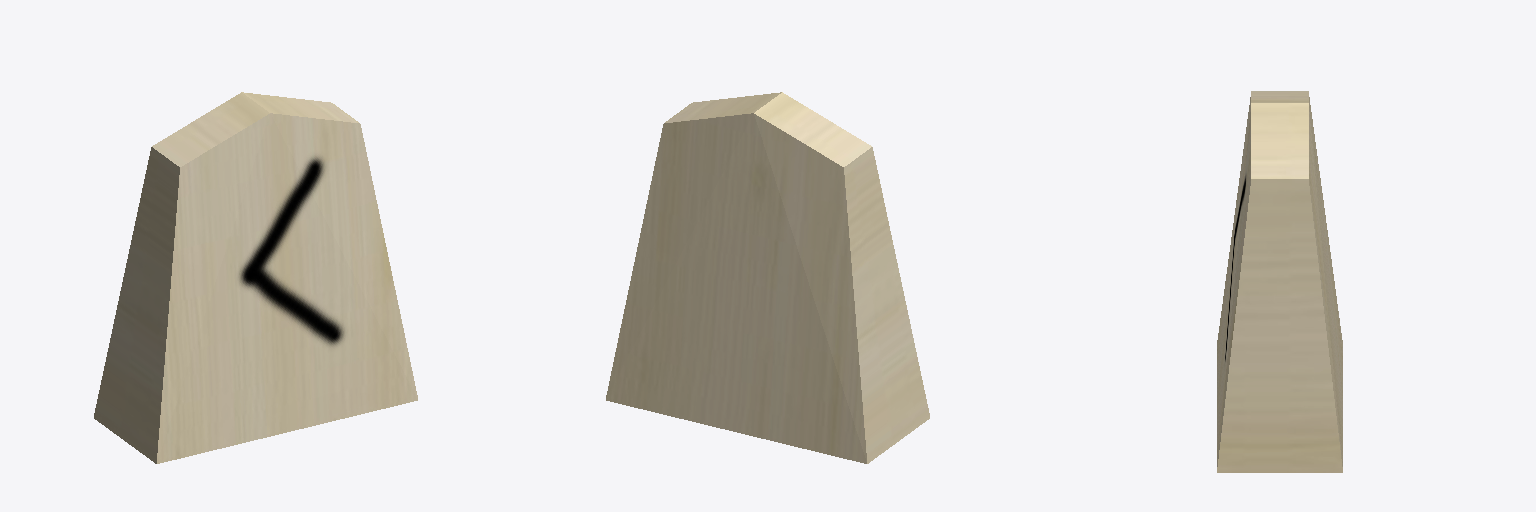
3 renders of one model, left to right at view 1: azimuth 30°, elevation 25°; view 2: azimuth 150°, elevation 25°; view 3: azimuth 270°, elevation 25°, orthographic.
Visible parts, largest first — view 1: Fciha; view 2: Fciha; view 3: Fciha.
Boxes of the visible parts, x1=… form: Fciha: x1=94, y1=92, x2=417, y2=463; Fciha: x1=606, y1=92, x2=929, y2=463; Fciha: x1=1217, y1=91, x2=1342, y2=472.
Size of the model in its own units: 5.47 by 6.12 by 2.29.
1 materials, 1 textured.